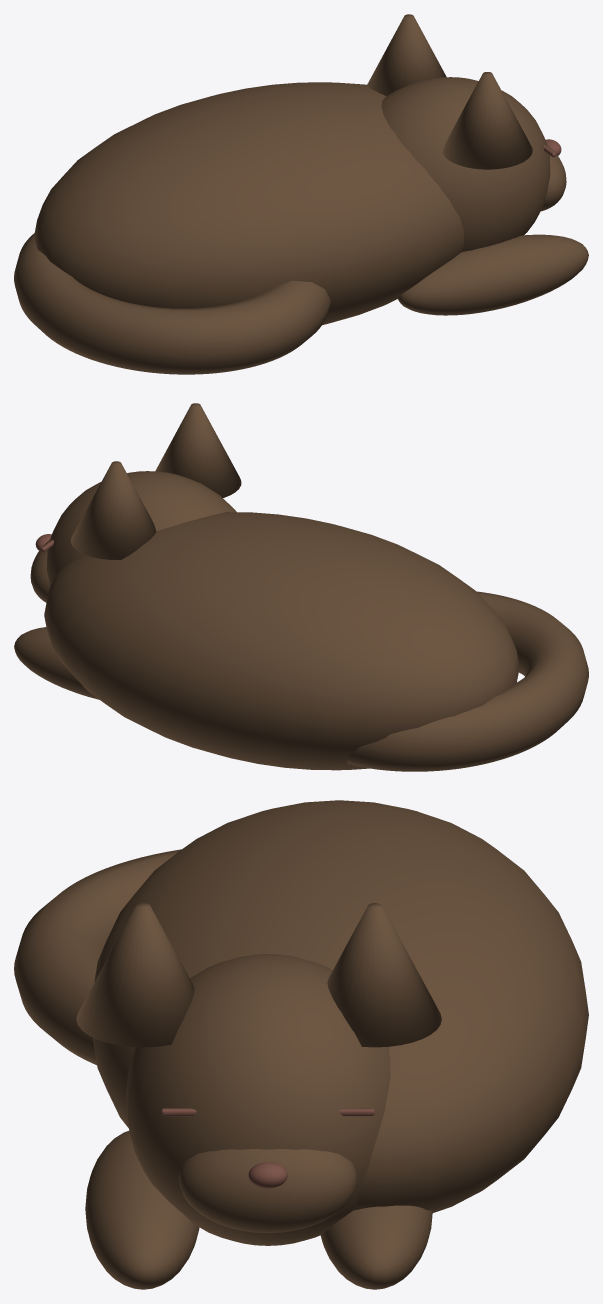
File: SleepingCat.fbx
3 renders of one model, top to bottom at view 1: azimuth 30°, elevation 25°; view 2: azimuth 150°, elevation 25°; view 3: azimuth 270°, elevation 25°, orthographic. The views are drawn at different scales.
Parts seen in each view (by area): view 1: SleepingCatBody, CurledTail, SleepingCatHead, CatPaw.001, CatEar.001, CatEar, CatMuzzle; view 2: SleepingCatBody, CurledTail, SleepingCatHead, CatEar, CatEar.001, CatPaw, CatMuzzle; view 3: SleepingCatBody, SleepingCatHead, CurledTail, CatMuzzle, CatPaw.001, CatEar.001, CatEar, CatPaw, CatNose.
Part boxes in pixels (bbox=[...]): SleepingCatBody: bbox=[34, 82, 464, 325]; CurledTail: bbox=[14, 233, 330, 374]; SleepingCatHead: bbox=[381, 77, 550, 251]; CatPaw.001: bbox=[398, 234, 588, 315]; CatEar.001: bbox=[442, 72, 532, 169]; CatEar: bbox=[366, 14, 446, 95]; CatMuzzle: bbox=[541, 145, 566, 211]; SleepingCatBody: bbox=[44, 512, 519, 770]; CurledTail: bbox=[345, 591, 588, 771]; SleepingCatHead: bbox=[46, 471, 236, 585]; CatEar: bbox=[71, 461, 156, 559]; CatEar.001: bbox=[155, 403, 241, 497]; CatPaw: bbox=[14, 627, 98, 699]; CatMuzzle: bbox=[30, 540, 49, 602]; SleepingCatBody: bbox=[93, 800, 588, 1212]; SleepingCatHead: bbox=[125, 954, 390, 1245]; CurledTail: bbox=[14, 849, 181, 1065]; CatMuzzle: bbox=[179, 1149, 357, 1232]; CatPaw.001: bbox=[85, 1131, 199, 1289]; CatEar.001: bbox=[76, 903, 194, 1047]; CatEar: bbox=[327, 903, 441, 1047]; CatPaw: bbox=[320, 1205, 432, 1289]; CatNose: bbox=[248, 1162, 287, 1188].
Size of the model in its own units: 99.45 by 45 by 64.5.
